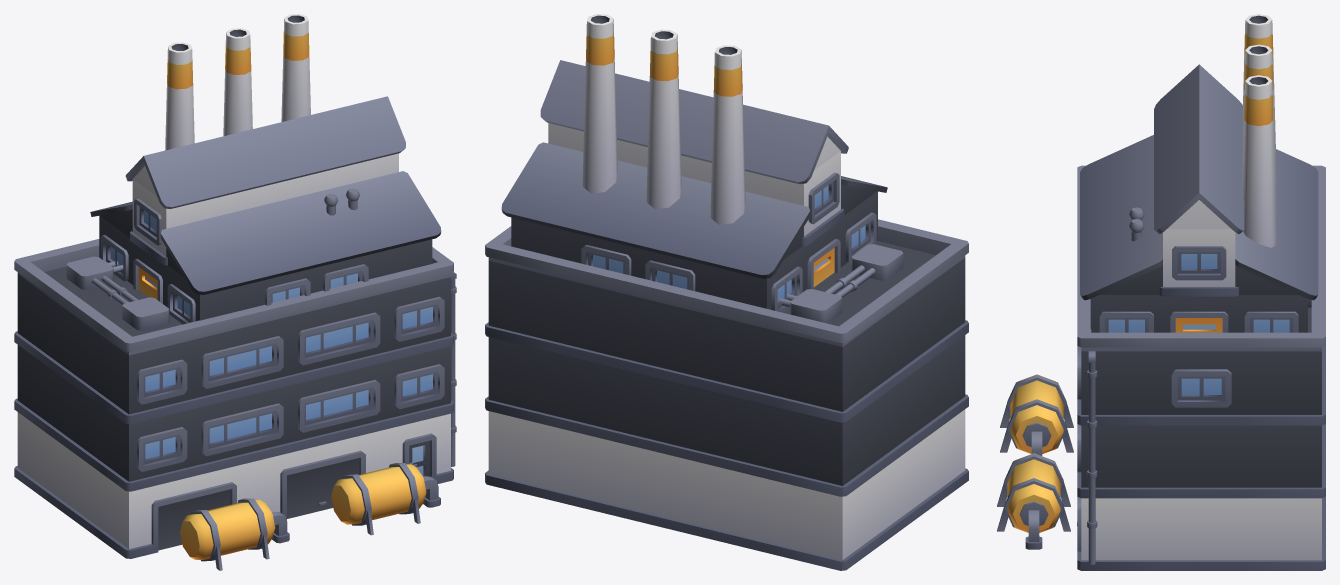
File: chemistry_level3.glb
3 renders of one model, left to right at view 1: azimuth 30°, elevation 25°; view 2: azimuth 150°, elevation 25°; view 3: azimuth 270°, elevation 25°, orthographic. The views are drawn at different scales.
Parts seen in each view (by area): view 1: detail-tank.001; view 2: detail-tank.001; view 3: detail-tank.001.
Boxes of the visible parts, x1,y1,x2,y2 form: detail-tank.001: (14, 14, 456, 570); detail-tank.001: (485, 14, 968, 570); detail-tank.001: (997, 14, 1325, 570).
Bounding box in the file's own units: 1.31 × 1.56 × 1.03.
3 materials, 3 textured.
